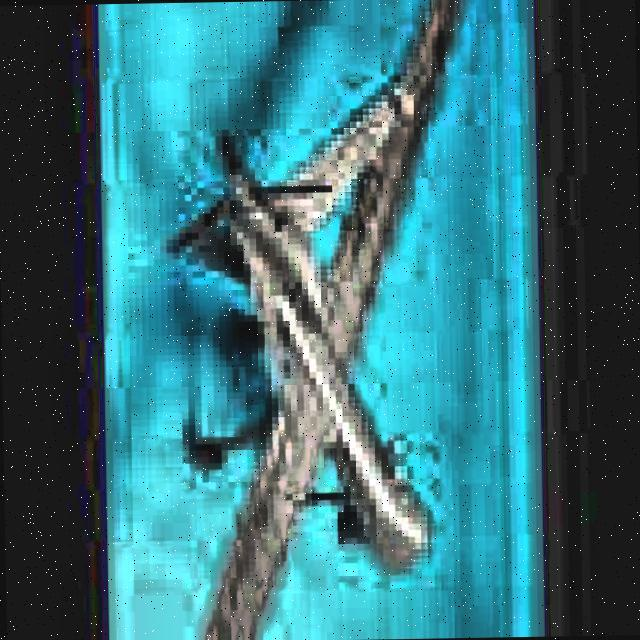iha: (165, 1, 485, 639)
